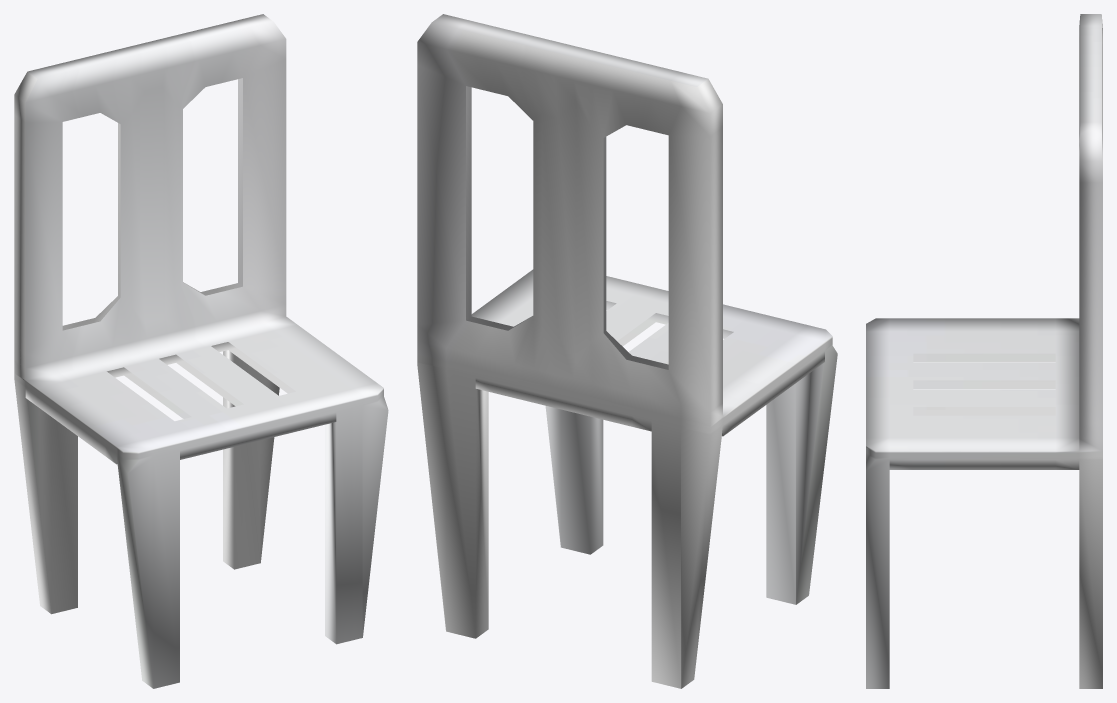
The model's file is monobloc.fbx.
3 views of the same model, side by side, from view 1: azimuth 30°, elevation 25°; view 2: azimuth 150°, elevation 25°; view 3: azimuth 270°, elevation 25° (orthographic). The views are drawn at different scales.
Visible parts, largest first — view 1: Cube; view 2: Cube; view 3: Cube.
Boxes of the visible parts, x1,y1,x2,y2 form: Cube: (14,14,388,688); Cube: (417,14,837,688); Cube: (866,14,1102,688).
Size of the model in its own units: 47.28 by 93.26 by 35.63.
Materials: 1 (1 with a texture image).
